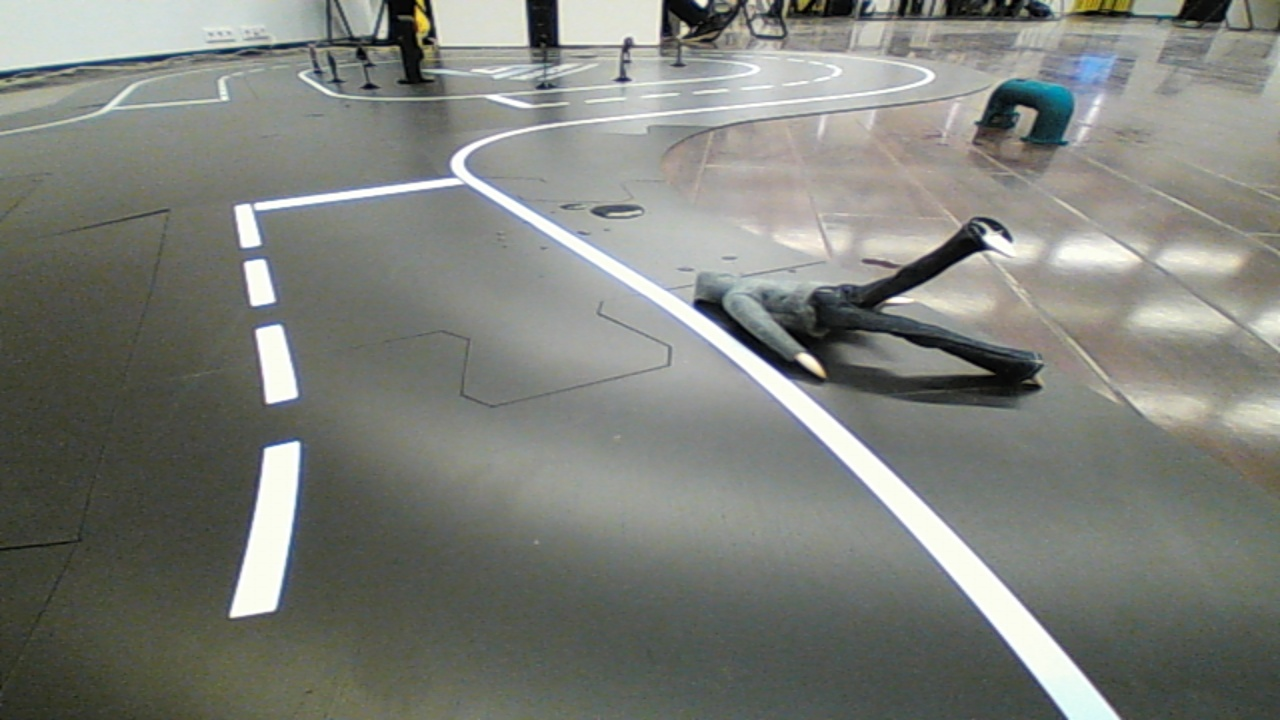Road works: (668, 200, 1073, 410)
